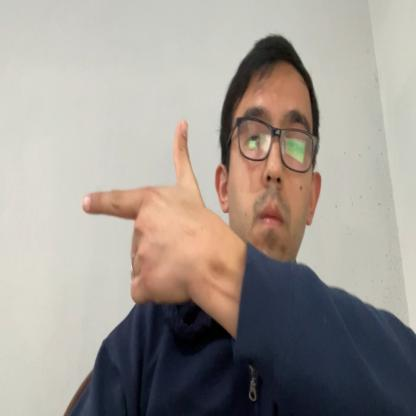G: (83, 119, 200, 306)
